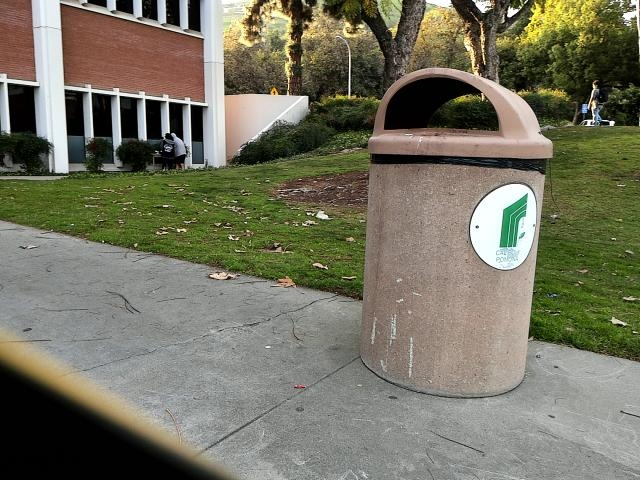trashcan: (341, 66, 552, 396)
